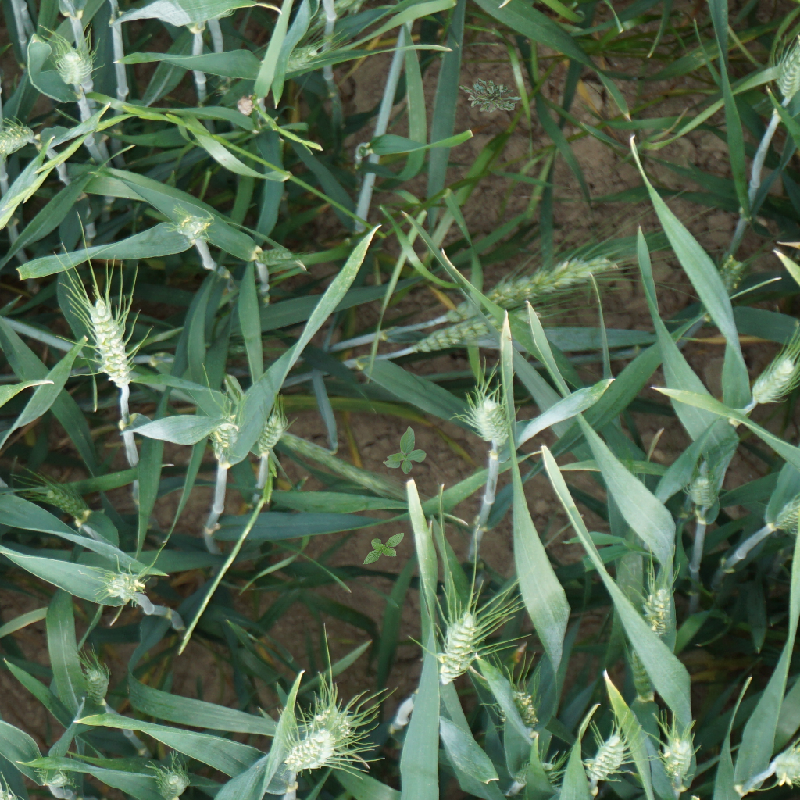spikelet: (438, 252, 623, 307), (407, 307, 564, 354), (84, 289, 143, 384), (291, 693, 371, 757), (735, 332, 800, 410), (643, 713, 703, 795), (432, 605, 485, 689), (578, 726, 638, 800), (692, 245, 753, 317), (275, 723, 339, 776), (200, 389, 247, 460), (32, 477, 100, 526), (96, 558, 154, 613), (471, 390, 519, 455), (638, 561, 679, 634), (54, 33, 104, 92), (685, 446, 723, 520), (765, 30, 800, 107), (0, 107, 47, 160), (263, 39, 325, 78), (35, 751, 84, 800), (75, 657, 119, 710), (256, 400, 292, 464), (757, 733, 800, 786), (158, 750, 202, 800), (511, 685, 548, 742), (629, 639, 656, 704), (174, 206, 214, 245), (767, 489, 800, 535), (250, 243, 304, 268), (211, 77, 236, 96)
weed: (354, 523, 413, 573), (459, 78, 522, 113), (383, 426, 427, 474)
